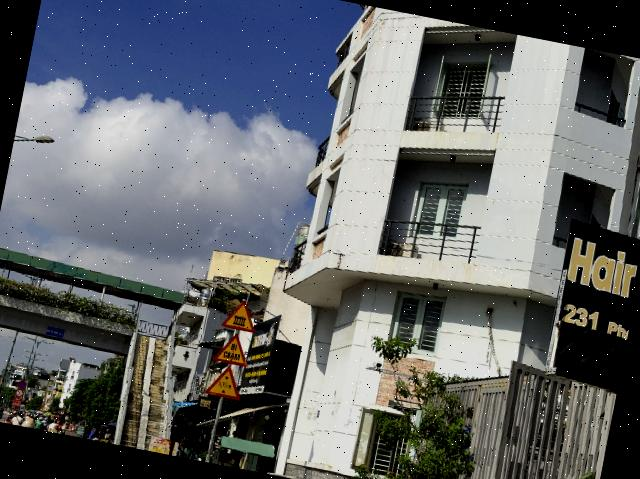chieu-cao-tinh-khong-thuc-te: (203, 361, 246, 401)
di-cham: (212, 330, 252, 367)
noi-giao-nhau-voi-duong-sat-co-rao-chan: (220, 296, 260, 332)
